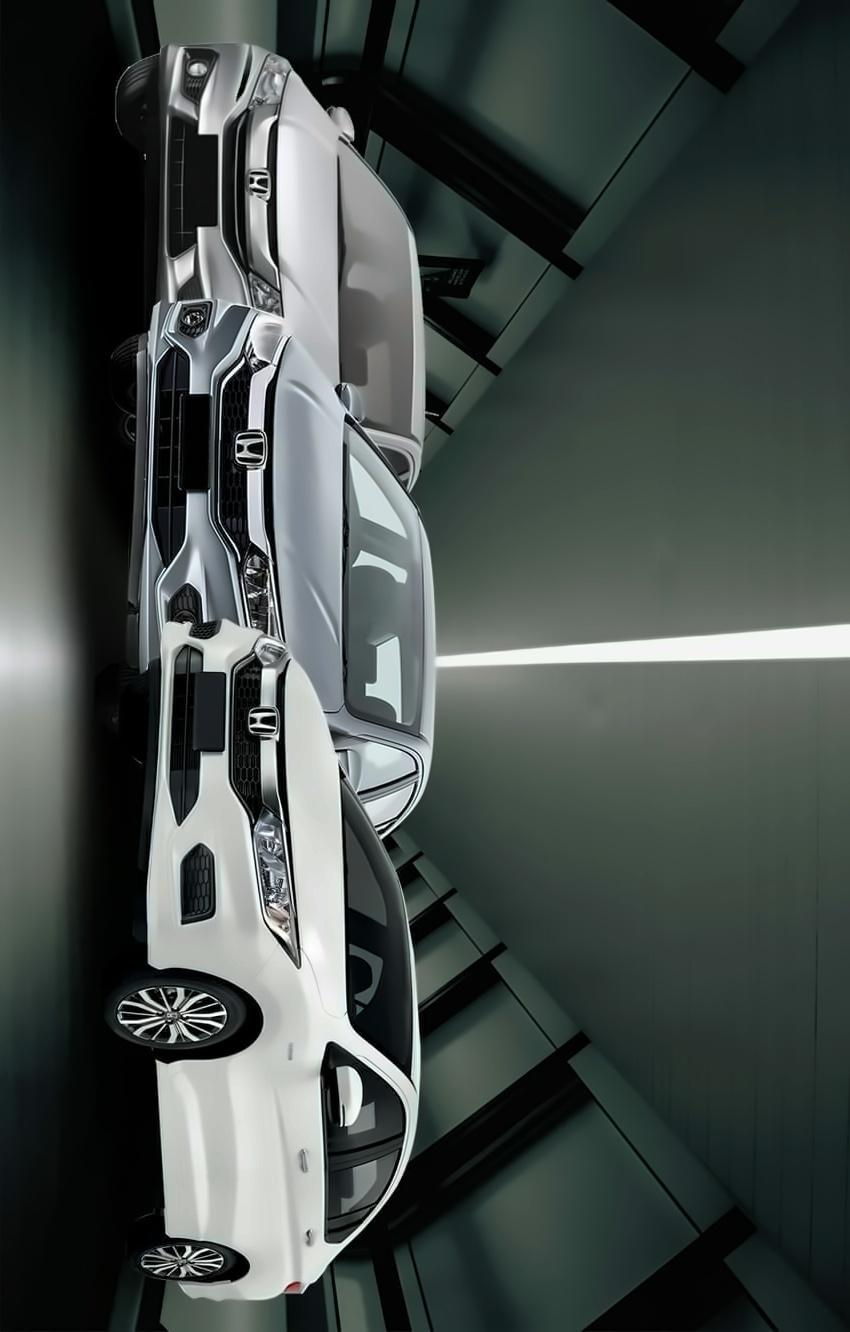Car hood: (269, 330, 348, 719), (282, 654, 351, 1021), (272, 63, 340, 386)
Fender - -F-L-: (156, 952, 377, 1063)
Fender - -R-L-: (164, 1230, 329, 1293)
Front bumper: (121, 296, 252, 677), (130, 613, 261, 991), (150, 30, 255, 310)
Headlight - -L-: (247, 794, 307, 974), (233, 534, 287, 643), (243, 260, 291, 323)
Headlight - -R-: (239, 303, 297, 382), (242, 44, 296, 118), (244, 626, 295, 675)
Passenger-s door - -F-L-: (169, 1036, 418, 1168)
Passenger-s door - -R-L-: (169, 1170, 418, 1256)
Rear bumper: (172, 1272, 258, 1312)
Rear light - -L-: (273, 1276, 318, 1306)
Side bumper - -L-: (152, 1050, 196, 1244)
Side mirror - -L-: (313, 1054, 370, 1136), (332, 733, 372, 795)
Side mirror - -R-: (327, 367, 381, 438), (317, 93, 362, 148)
